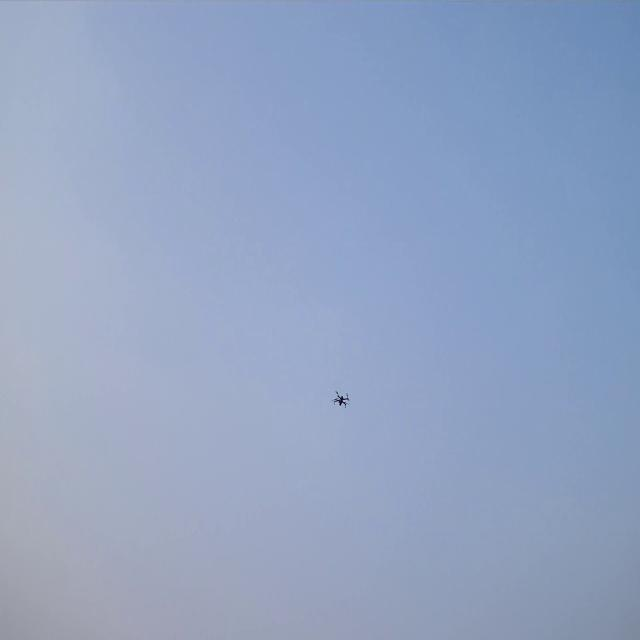UAV: (331, 390, 352, 410)
